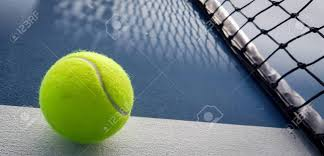tennis_ball: (39, 50, 134, 145)
